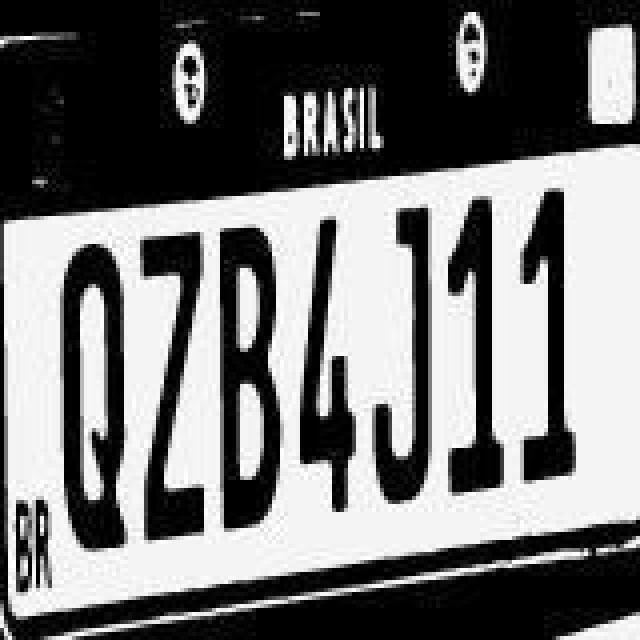1: (514, 190, 590, 482), (444, 200, 516, 496)
4: (296, 218, 360, 510)
B: (214, 222, 282, 530)
J: (372, 204, 436, 508)
Q: (58, 246, 134, 554)
Z: (140, 234, 212, 542)
